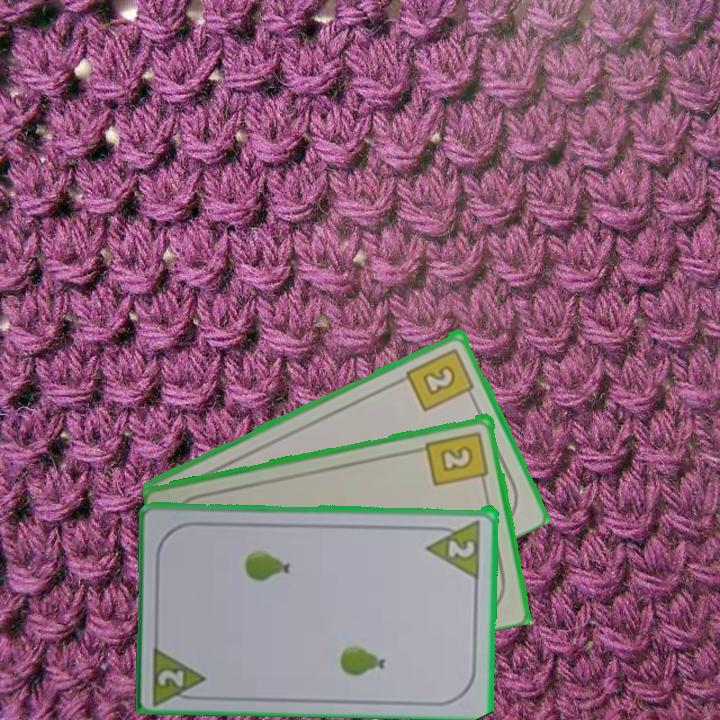2b: (403, 344, 478, 414), (423, 427, 492, 489)
2p: (154, 665, 188, 689), (445, 536, 478, 560)
